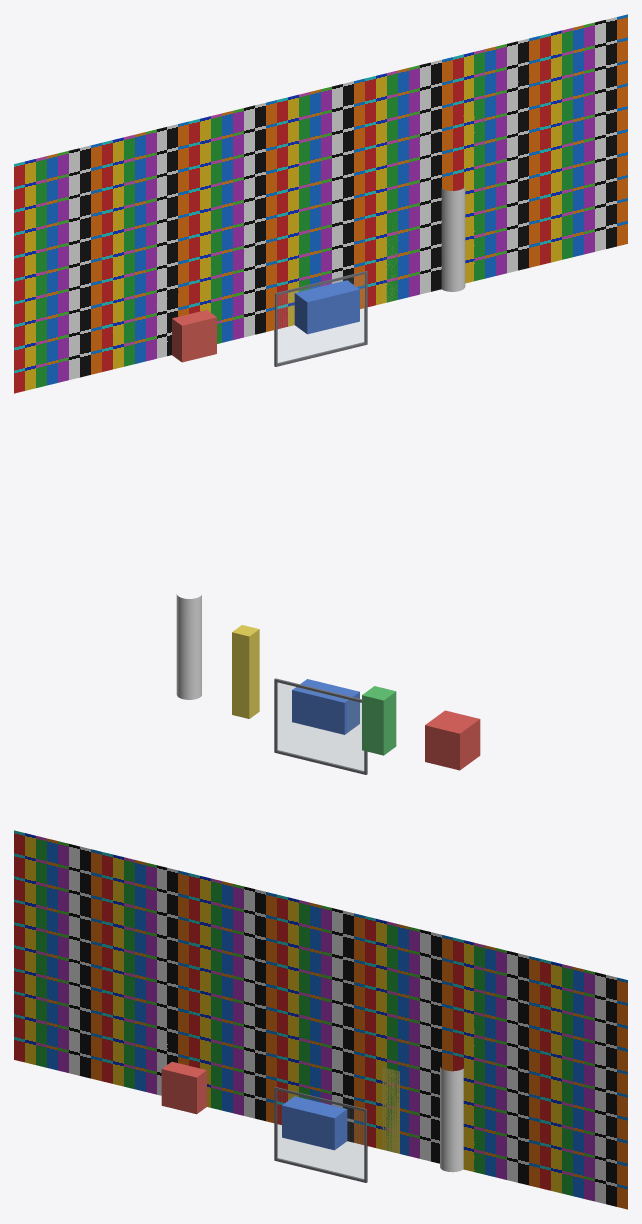
Rendered from temporal_glass.gltf.
3 renders of one model, top to bottom at view 1: azimuth 30°, elevation 25°; view 2: azimuth 150°, elevation 25°; view 3: azimuth 330°, elevation 25°, orthographic.
Visible parts, largest first — view 1: backdrop_wall, props, glass_panel; view 2: props, glass_panel; view 3: backdrop_wall, props, glass_panel.
Part boxes in pixels (bbox=[...]): backdrop_wall: bbox=[14, 14, 627, 393]; props: bbox=[172, 186, 465, 362]; glass_panel: bbox=[274, 271, 367, 366]; props: bbox=[176, 594, 480, 770]; glass_panel: bbox=[274, 678, 367, 774]; backdrop_wall: bbox=[14, 830, 627, 1209]; props: bbox=[161, 1061, 463, 1172]; glass_panel: bbox=[274, 1087, 367, 1182].
Size of what is drawn, in the model's own units: 14 by 5.8 by 1.05.
Materials: 8 (1 with a texture image).
